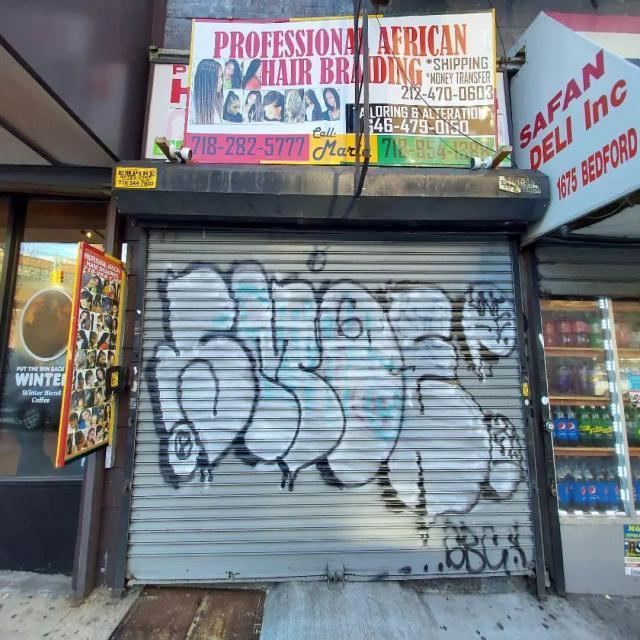-: (146, 242, 524, 530)
